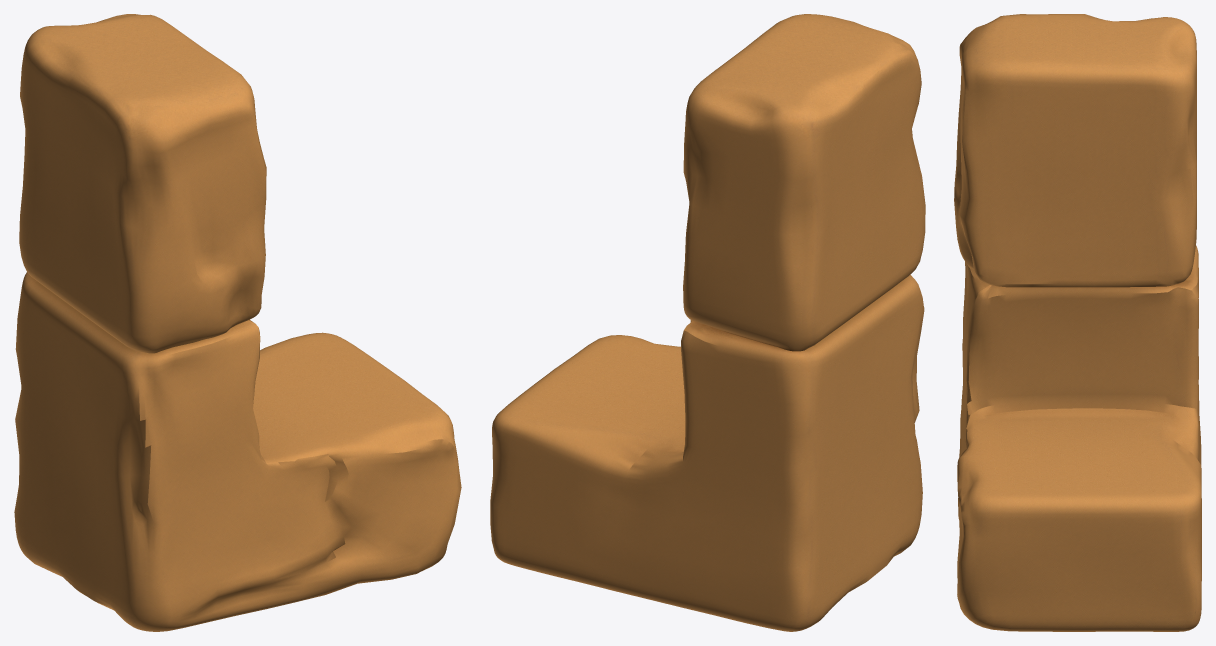
File: brick_L_sandstone.glb
3 renders of one model, left to right at view 1: azimuth 30°, elevation 25°; view 2: azimuth 150°, elevation 25°; view 3: azimuth 270°, elevation 25°, orthographic. The views are drawn at different scales.
Parts seen in each view (by area): view 1: Mesh_0; view 2: Mesh_0; view 3: Mesh_0.
Boxes of the visible parts, bbox=[...] form: Mesh_0: bbox=[14, 14, 461, 631]; Mesh_0: bbox=[490, 14, 925, 631]; Mesh_0: bbox=[954, 14, 1201, 631].
Size of the model in its own units: 1.23 by 1.9 by 0.8782.
Materials: 1 (1 with a texture image).
